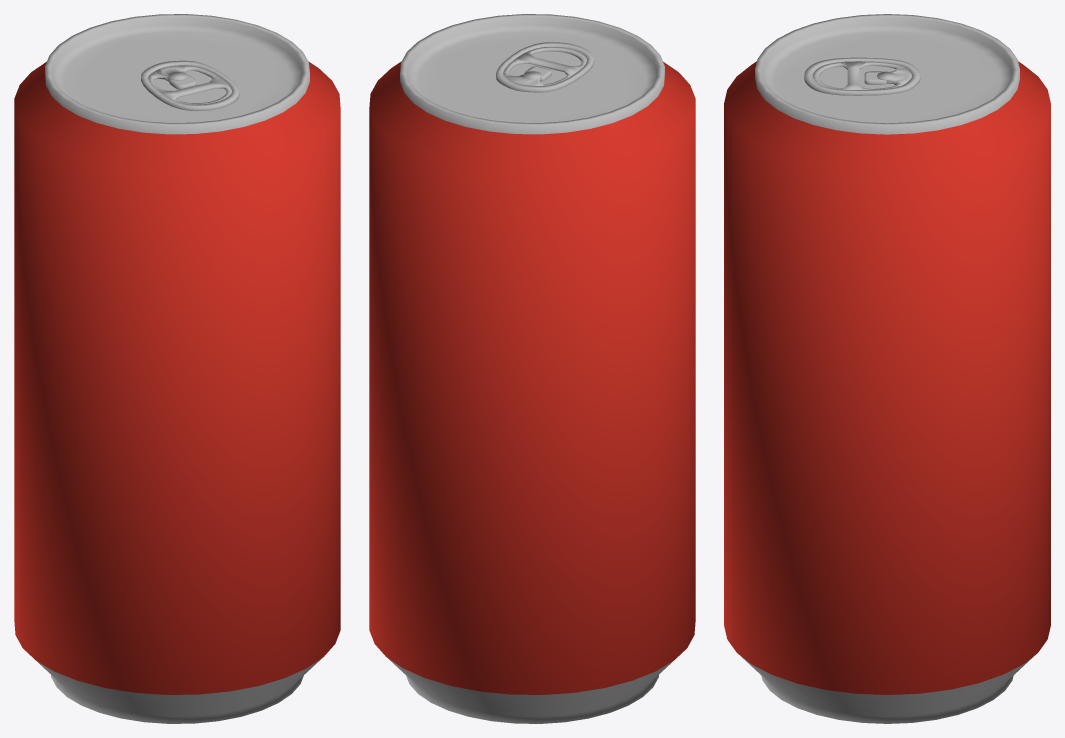
File: CanLarge.fbx
3 renders of one model, left to right at view 1: azimuth 30°, elevation 25°; view 2: azimuth 150°, elevation 25°; view 3: azimuth 270°, elevation 25°, orthographic.
Visible parts, largest first — view 1: CanLarge; view 2: CanLarge; view 3: CanLarge.
Part boxes in pixels (box(x1,y1,x2,y2)): CanLarge: box(14, 14, 340, 723); CanLarge: box(369, 14, 695, 723); CanLarge: box(724, 14, 1050, 723).
Size of the model in its own units: 5.5 by 5.5 by 11.15.
